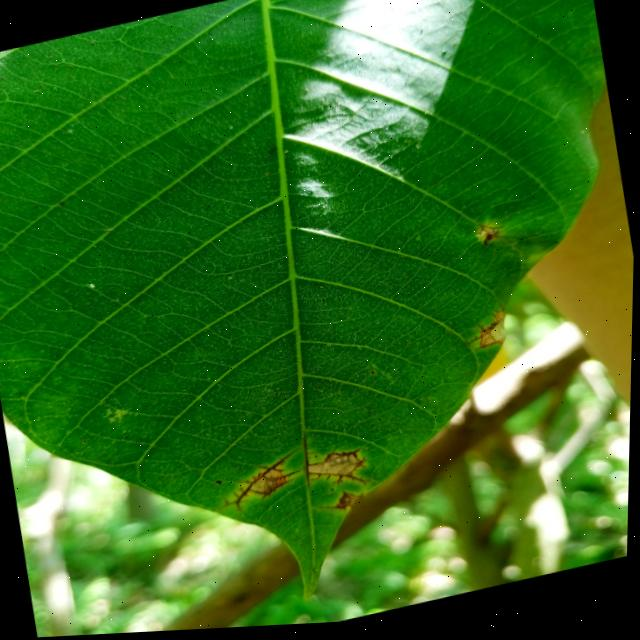Colletotrichum: (217, 481, 225, 488)
Corynespora: (216, 450, 311, 519), (300, 424, 375, 503), (462, 313, 513, 360), (319, 490, 368, 519)
Leaf-Blight: (490, 324, 510, 351)
